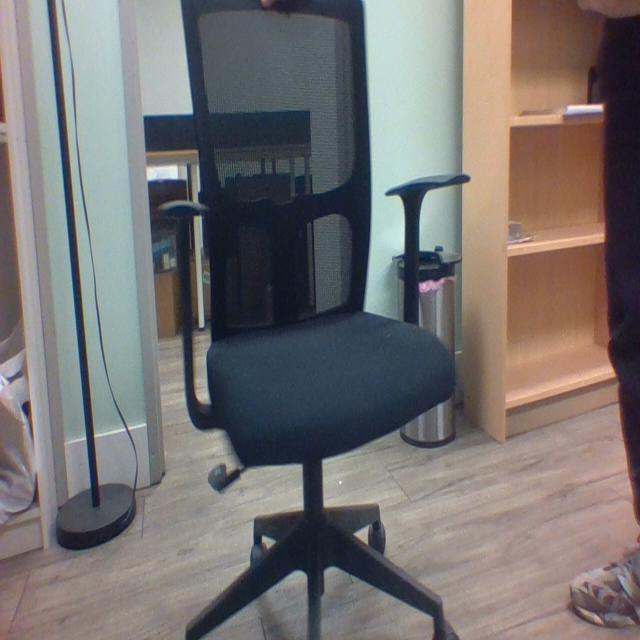chair: (165, 1, 473, 640)
